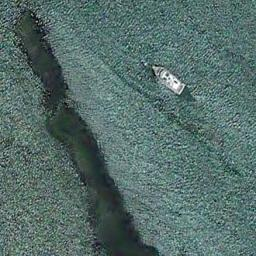boat: (151, 65, 186, 96)
